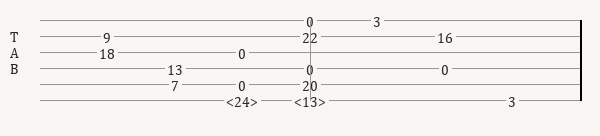0: (238, 77, 250, 91), (238, 45, 250, 59), (306, 13, 318, 27), (306, 61, 318, 75), (441, 61, 453, 75)
13: (167, 61, 187, 75)
16: (437, 29, 457, 43)
18: (99, 45, 119, 59)
20: (302, 77, 322, 91)
22: (302, 29, 322, 43)
3: (373, 13, 385, 27), (508, 93, 520, 107)
7: (171, 77, 183, 91)
9: (103, 29, 115, 43)
harmonic: (226, 93, 262, 107), (294, 93, 330, 107)
